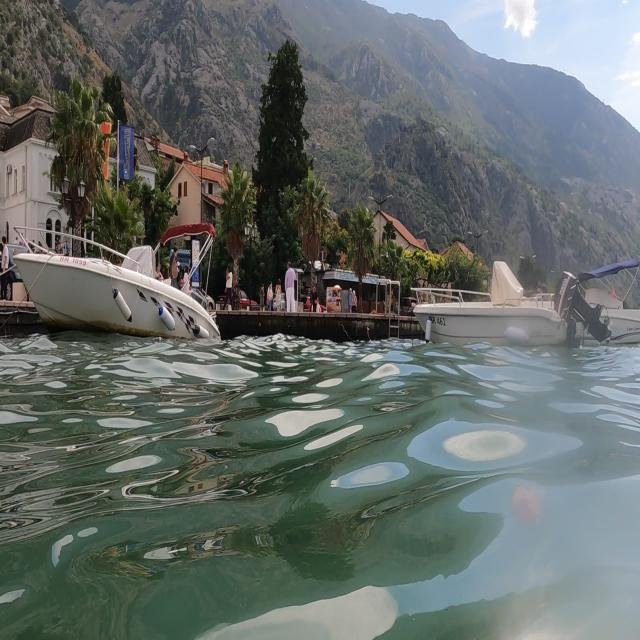boat: (13, 218, 223, 346), (406, 250, 580, 357), (566, 241, 640, 361)
